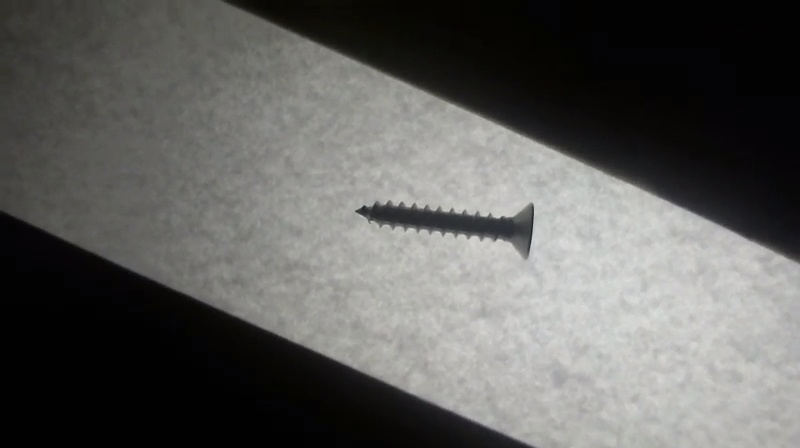S001: (348, 198, 537, 261)
